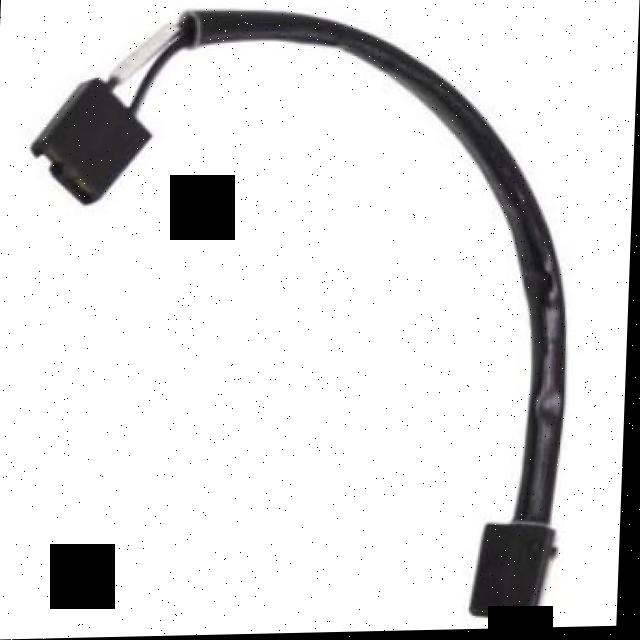cable: (33, 12, 568, 625)
connector: (33, 78, 151, 204), (474, 524, 560, 625)
